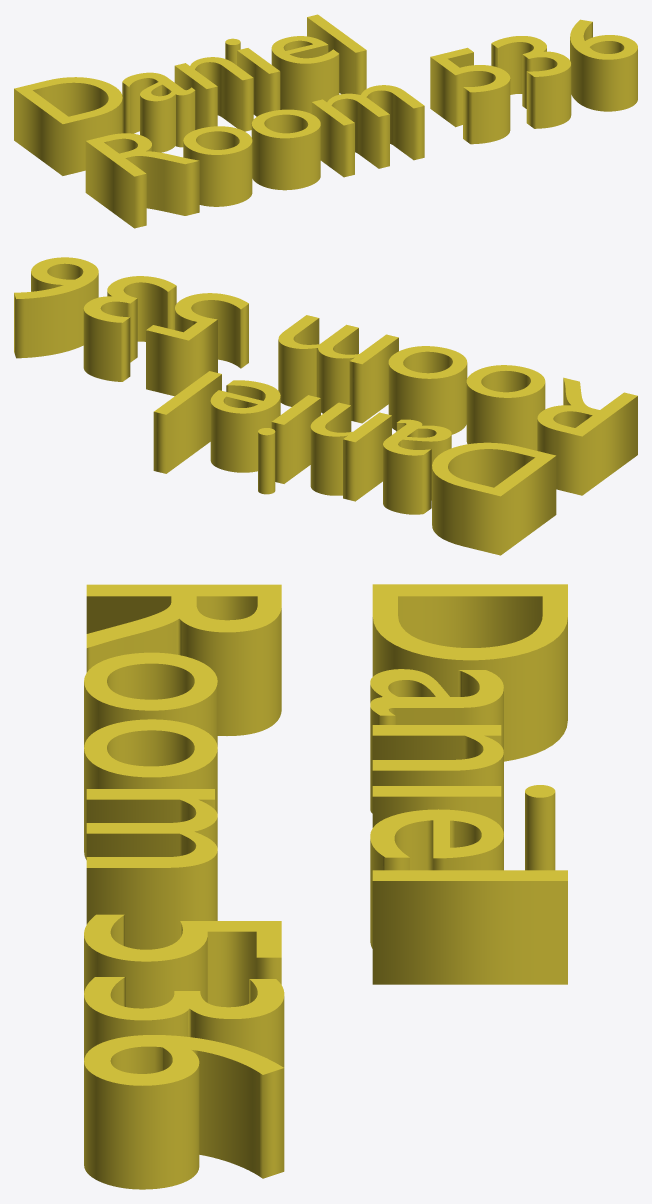
File: daniel-536.gltf
3 views of the same model, one above another, from view 1: azimuth 30°, elevation 25°; view 2: azimuth 150°, elevation 25°; view 3: azimuth 270°, elevation 25° (orthographic). The views are drawn at different scales.
Visible parts, largest first — view 1: Text; view 2: Text; view 3: Text.
Part boxes in pixels (x1,y1,x2,y2): Text: (14,14,637,228); Text: (14,257,637,555); Text: (84,584,567,1189).
Size of the model in its own units: 4.15 by 0.4 by 1.69.
